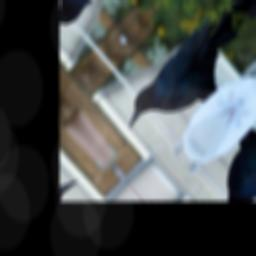Crow: (114, 1, 256, 155)
